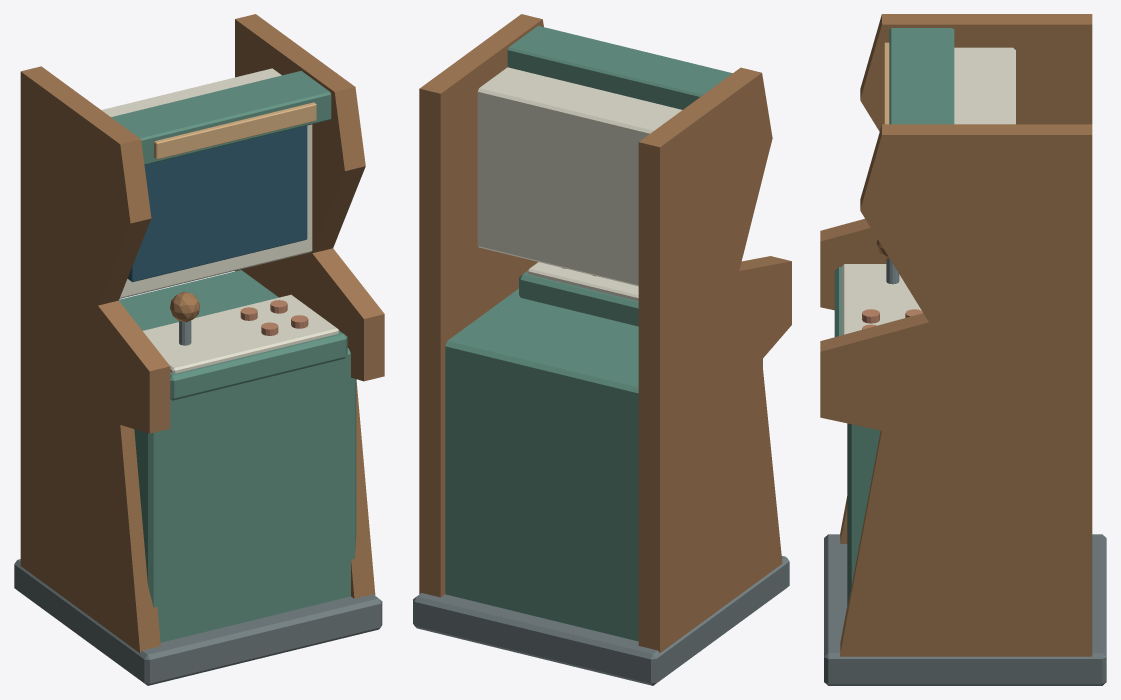
3 renders of one model, left to right at view 1: azimuth 30°, elevation 25°; view 2: azimuth 150°, elevation 25°; view 3: azimuth 270°, elevation 25°, orthographic. The views are drawn at different scales.
Parts seen in each view (by area): view 1: CabinetAndSetting, Screen_Runtime; view 2: CabinetAndSetting; view 3: CabinetAndSetting.
Part boxes in pixels (box(x1,y1,x2,y2)): CabinetAndSetting: box(14, 14, 384, 685); Screen_Runtime: box(127, 125, 307, 282); CabinetAndSetting: box(413, 14, 791, 685); CabinetAndSetting: box(820, 14, 1106, 685).
Bounding box in the file's own units: 0.8 × 1.68 × 0.79.
